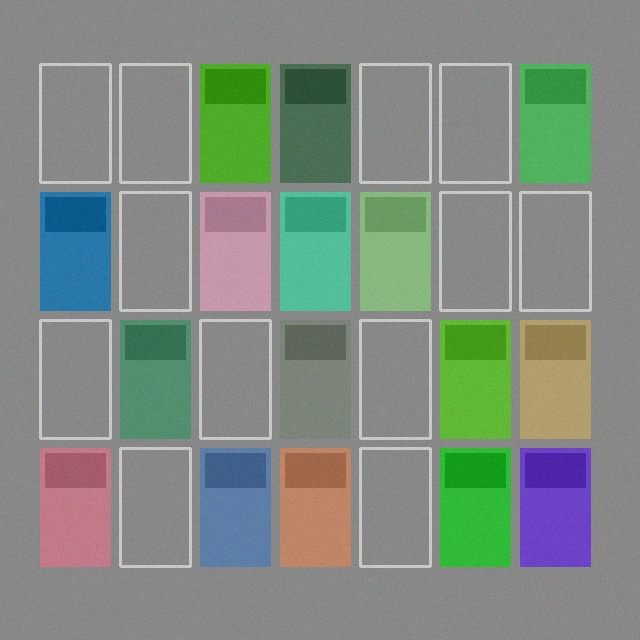space-empty: (40, 64, 110, 182), (120, 64, 190, 182), (360, 64, 430, 182), (440, 64, 510, 182), (120, 192, 190, 310), (440, 192, 510, 310), (520, 192, 590, 310), (40, 320, 110, 438), (200, 320, 270, 438), (360, 320, 430, 438), (120, 448, 190, 566), (360, 448, 430, 566)
space-occupied: (200, 64, 270, 182), (280, 64, 350, 182), (520, 64, 590, 182), (40, 192, 110, 310), (200, 192, 270, 310), (280, 192, 350, 310), (360, 192, 430, 310), (120, 320, 190, 438), (280, 320, 350, 438), (440, 320, 510, 438), (520, 320, 590, 438), (40, 448, 110, 566), (200, 448, 270, 566), (280, 448, 350, 566), (440, 448, 510, 566), (520, 448, 590, 566)
